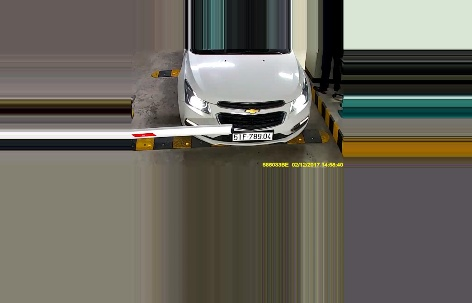plate: (231, 130, 274, 142)
